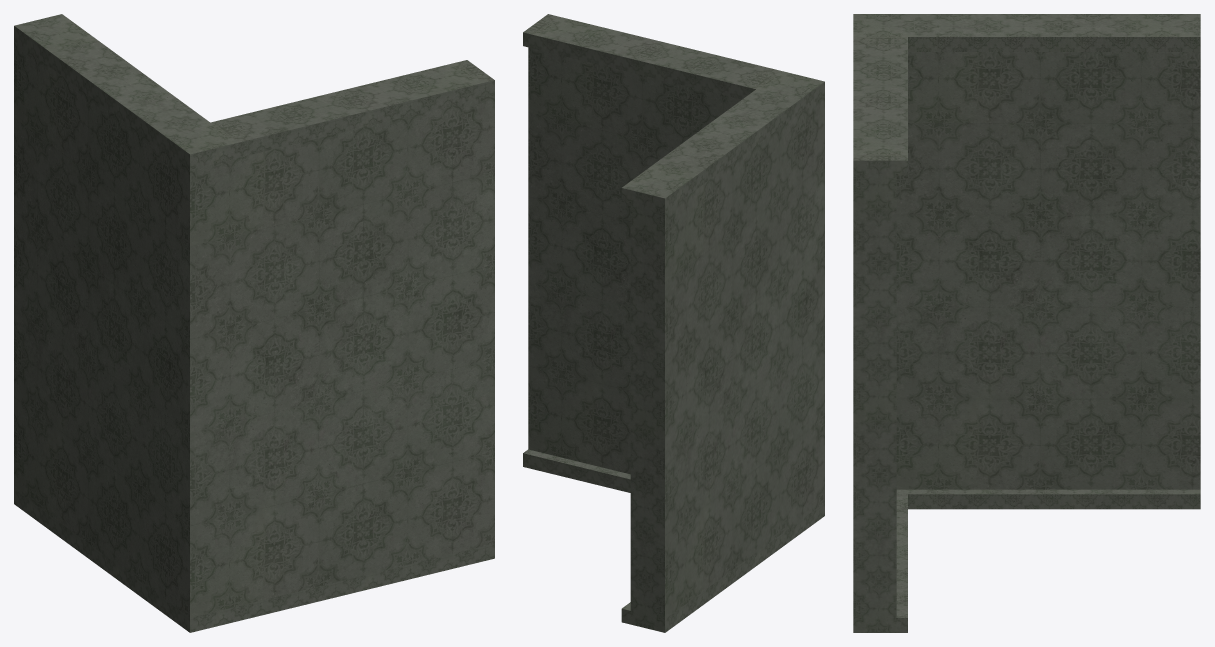
File: Wall_esssahl_L.fbx
3 renders of one model, left to right at view 1: azimuth 30°, elevation 25°; view 2: azimuth 150°, elevation 25°; view 3: azimuth 270°, elevation 25°, orthographic. The views are drawn at different scales.
Visible parts, largest first — view 1: Wall_Esss_L001; view 2: Wall_Esss_L001; view 3: Wall_Esss_L001.
Part boxes in pixels (x1,y1,x2,y2): Wall_Esss_L001: [14, 14, 494, 632]; Wall_Esss_L001: [523, 14, 824, 632]; Wall_Esss_L001: [853, 14, 1200, 632].
Size of the model in its own units: 200 by 300 by 200.
